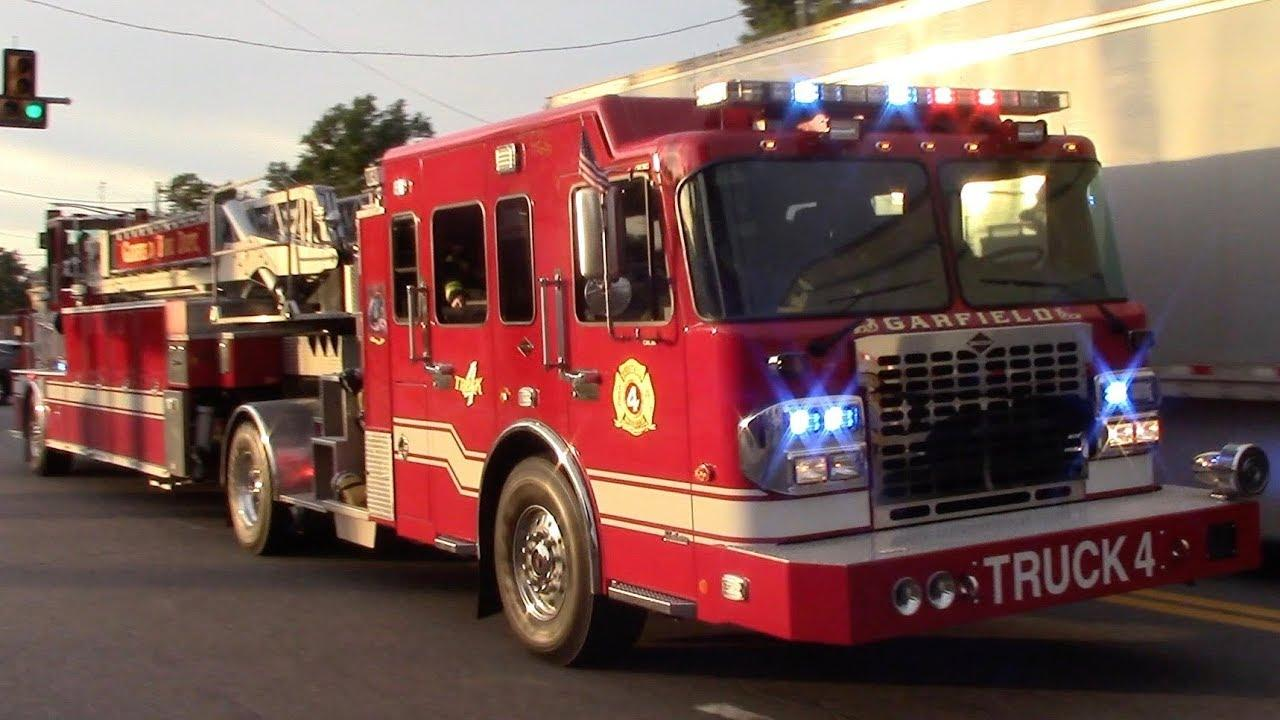Fire-engine: (7, 76, 1268, 668)
